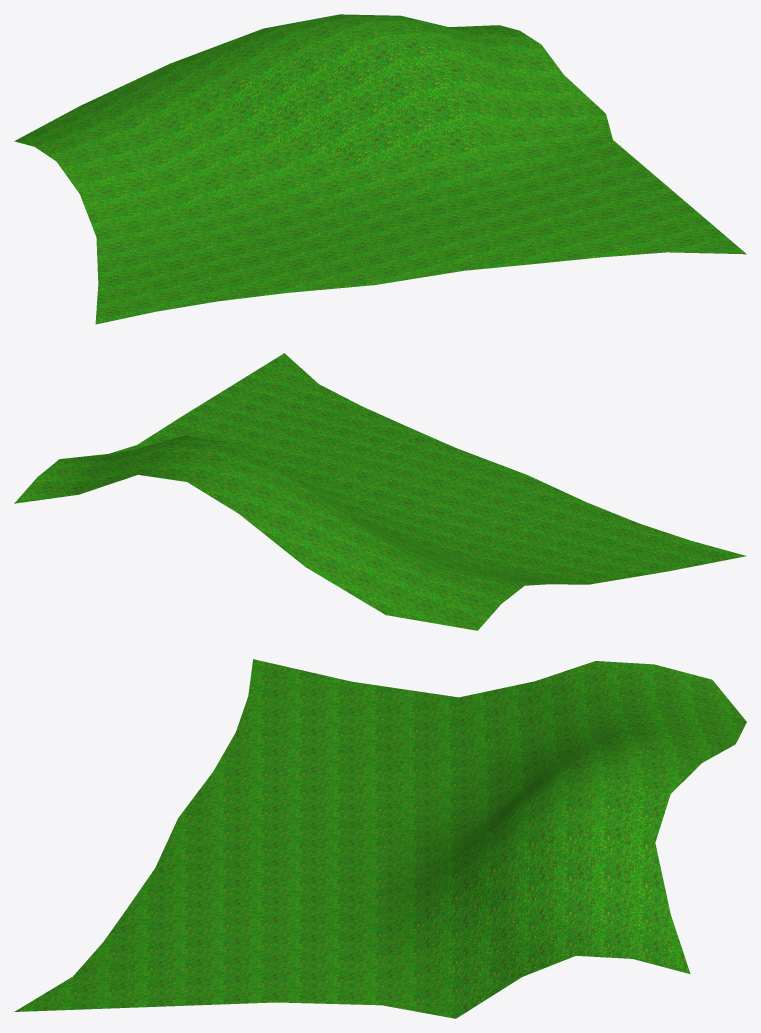
File: HTOWN01_PS04.fbx
The picture shows the model from 3 angles, top to bottom: view 1: azimuth 30°, elevation 25°; view 2: azimuth 150°, elevation 25°; view 3: azimuth 270°, elevation 25°; orthographic projection. The views are drawn at different scales.
Visible parts, largest first — view 1: HTOWN01_PS04; view 2: HTOWN01_PS04; view 3: HTOWN01_PS04.
Part boxes in pixels (x1,y1,x2,y2): HTOWN01_PS04: [14, 14, 746, 324]; HTOWN01_PS04: [14, 353, 746, 630]; HTOWN01_PS04: [14, 659, 746, 1018].
Bounding box in the file's own units: 481224 × 82209 × 399646.
1 material, 1 textured.
